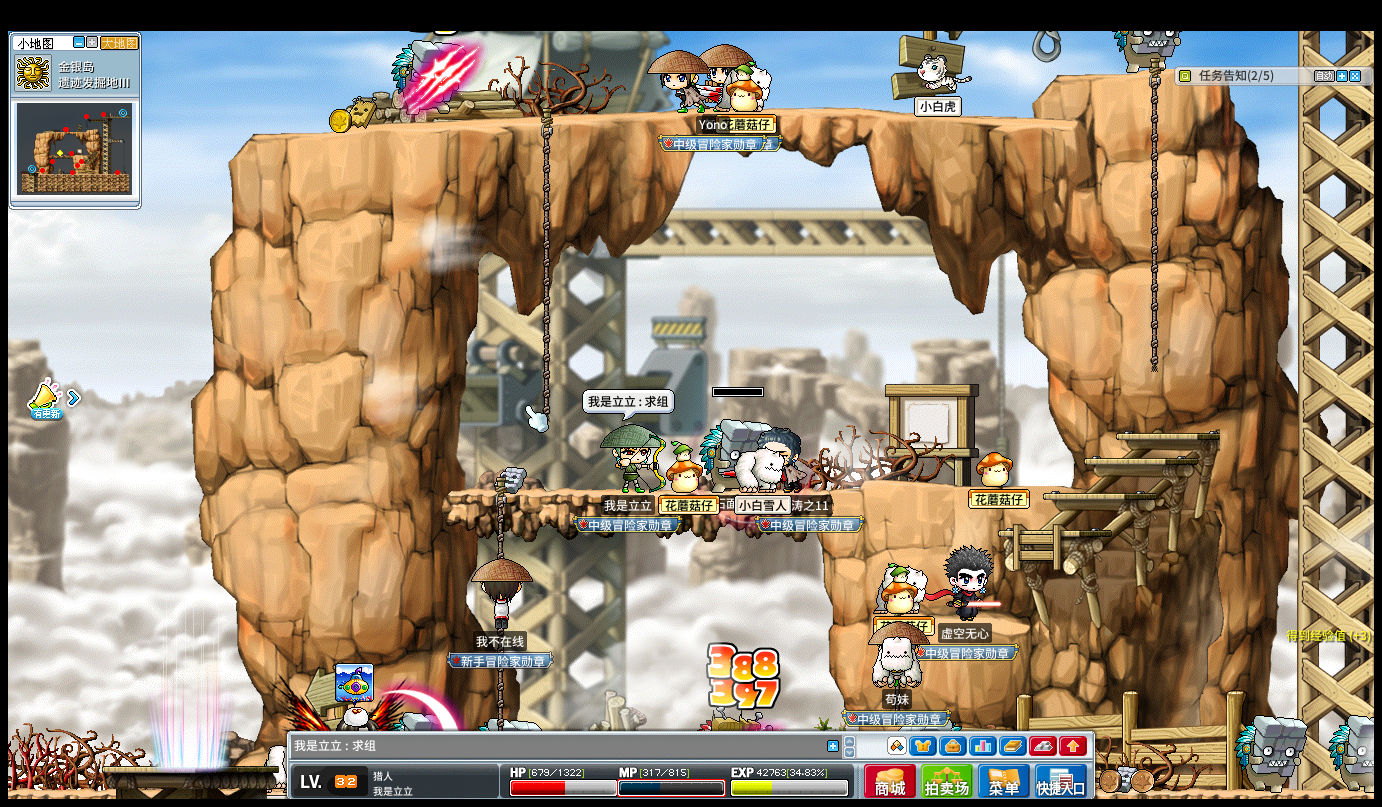floor: (224, 103, 1073, 139), (445, 488, 832, 499), (906, 615, 1031, 630), (867, 481, 1074, 490), (1054, 69, 1172, 82), (1115, 429, 1221, 441), (1077, 456, 1193, 464), (1044, 492, 1157, 500), (999, 528, 1110, 536)
monster: (1234, 715, 1307, 791), (390, 37, 452, 124), (1327, 715, 1381, 792), (701, 420, 754, 468)
rope: (1147, 57, 1161, 375), (539, 106, 551, 427), (492, 480, 506, 559), (495, 667, 504, 721)
